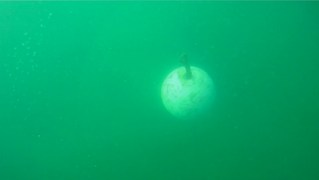buoy: (160, 65, 217, 122)
